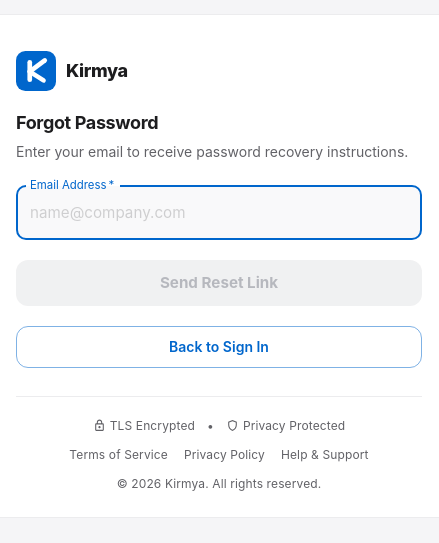
Test: ForgotPasswordPage › surfaces a network failure instead of claiming the email was sent
In the field labelled "Email Address *": (219, 213) x1=16 y1=186 x2=422 y2=240, type "person@example.com"
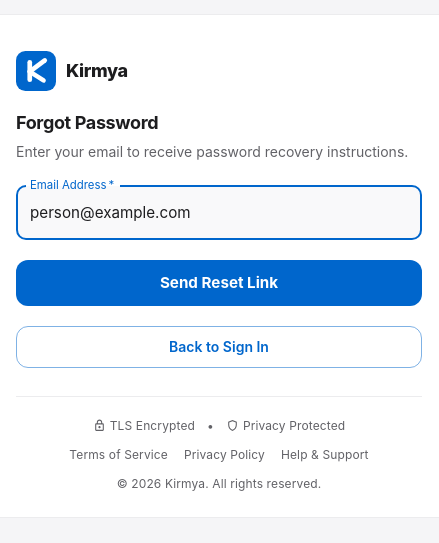
Click the button "Send Reset Link": (219, 283) x1=16 y1=260 x2=422 y2=306
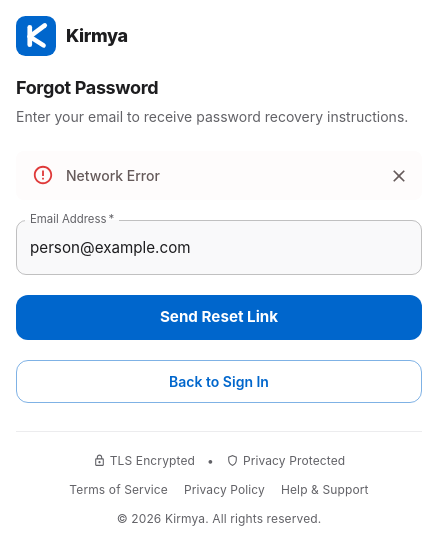
Check: the message "Network Error" is shown, box x1=16 y1=151 x2=422 y2=200
